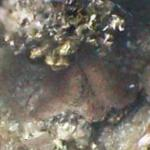alive: (3, 1, 145, 147)
